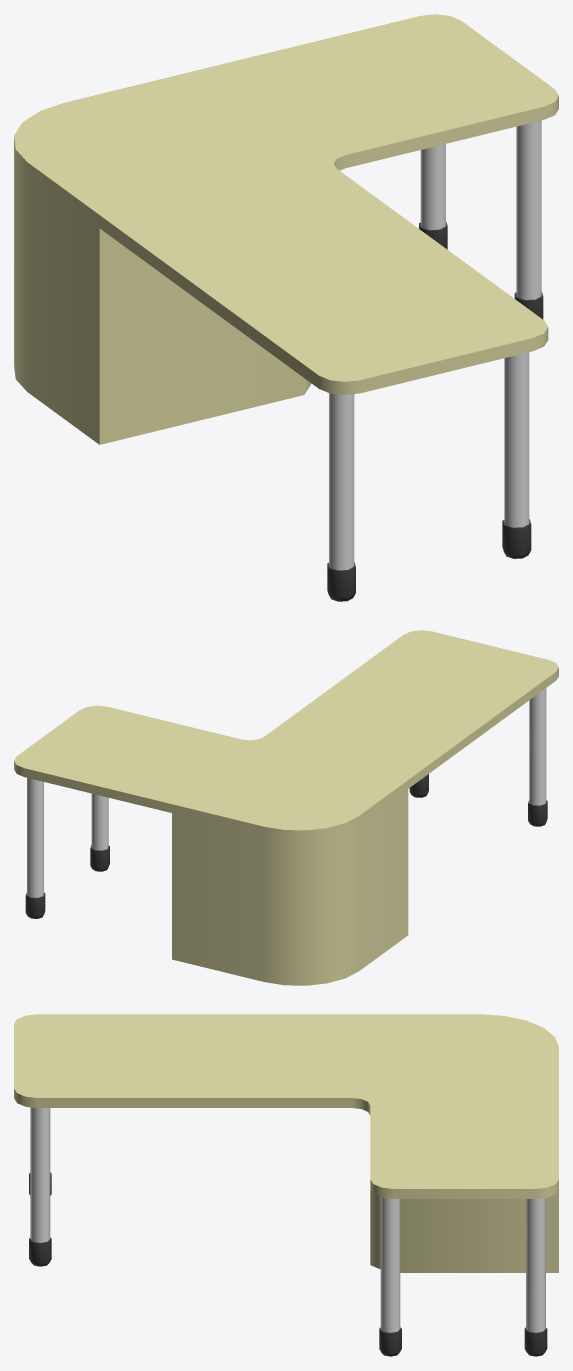
File: officetable1.fbx
3 renders of one model, top to bottom at view 1: azimuth 30°, elevation 25°; view 2: azimuth 150°, elevation 25°; view 3: azimuth 270°, elevation 25°, orthographic. The views are drawn at different scales.
Visible parts, largest first — view 1: table1.001; view 2: table1.001; view 3: table1.001.
Part boxes in pixels (left/top/right/bottom): table1.001: left=14, top=14, right=558, bottom=601; table1.001: left=14, top=630, right=558, bottom=985; table1.001: left=14, top=1014, right=558, bottom=1356.
Bounding box in the file's own units: 1.85 × 0.8672 × 2.43.
